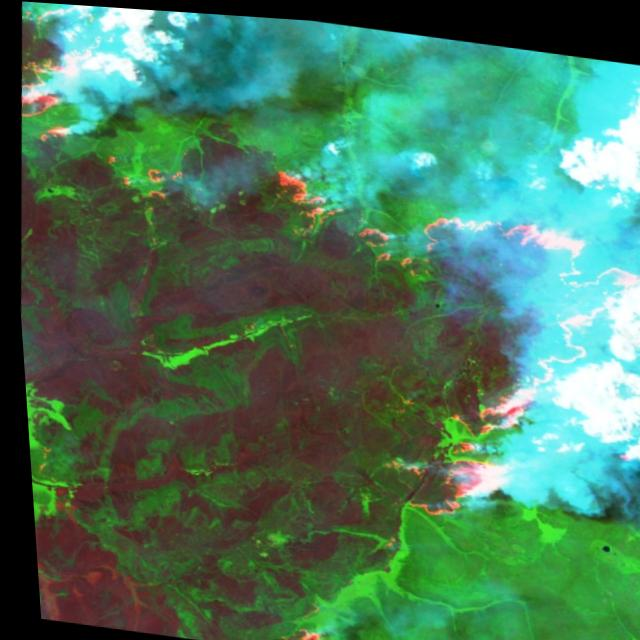fire: (234, 145, 640, 559), (9, 0, 210, 211)
